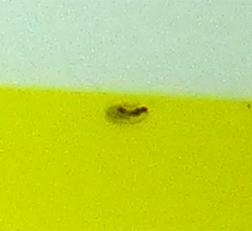Hymenoptera: (100, 100, 152, 131)
